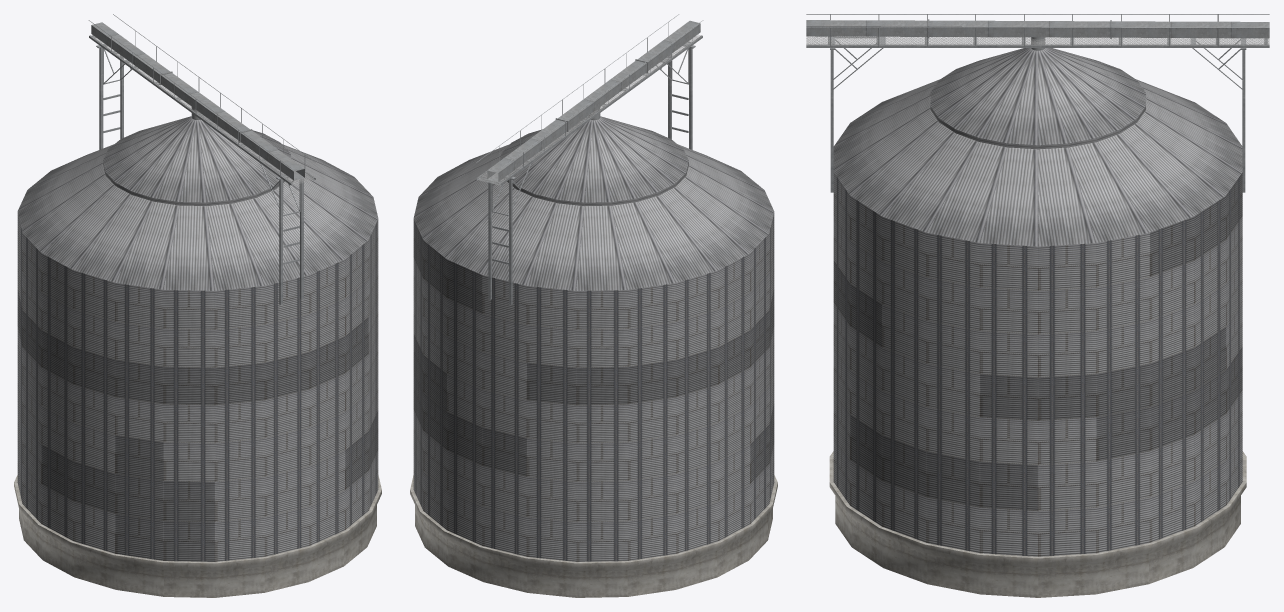
File: plant-silo-1.glb
3 renders of one model, left to right at view 1: azimuth 30°, elevation 25°; view 2: azimuth 150°, elevation 25°; view 3: azimuth 270°, elevation 25°, orthographic. The views are drawn at different scales.
Parts seen in each view (by area): view 1: Object8932100; view 2: Object8932100; view 3: Object8932100.
Boxes of the visible parts, x1,y1,x2,y2 form: Object8932100: (14,14,381,597); Object8932100: (410,14,777,597); Object8932100: (806,14,1269,597).
Bounding box in the file's own units: 24.29 × 31.35 × 26.72.
Materials: 1 (1 with a texture image).
